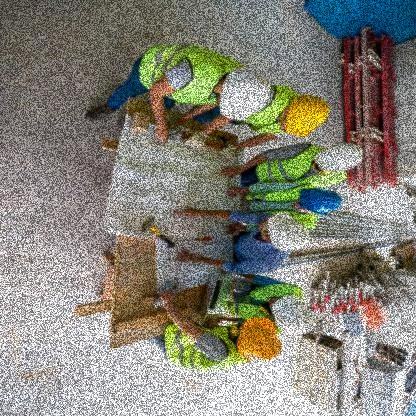blue: (301, 187, 346, 219)
vest: (136, 35, 226, 106), (160, 317, 240, 374), (254, 143, 323, 188), (245, 182, 308, 212)
white: (216, 60, 273, 127), (310, 140, 365, 180), (265, 209, 313, 254), (271, 293, 319, 336)
yellow: (238, 312, 283, 368), (284, 91, 333, 141)
